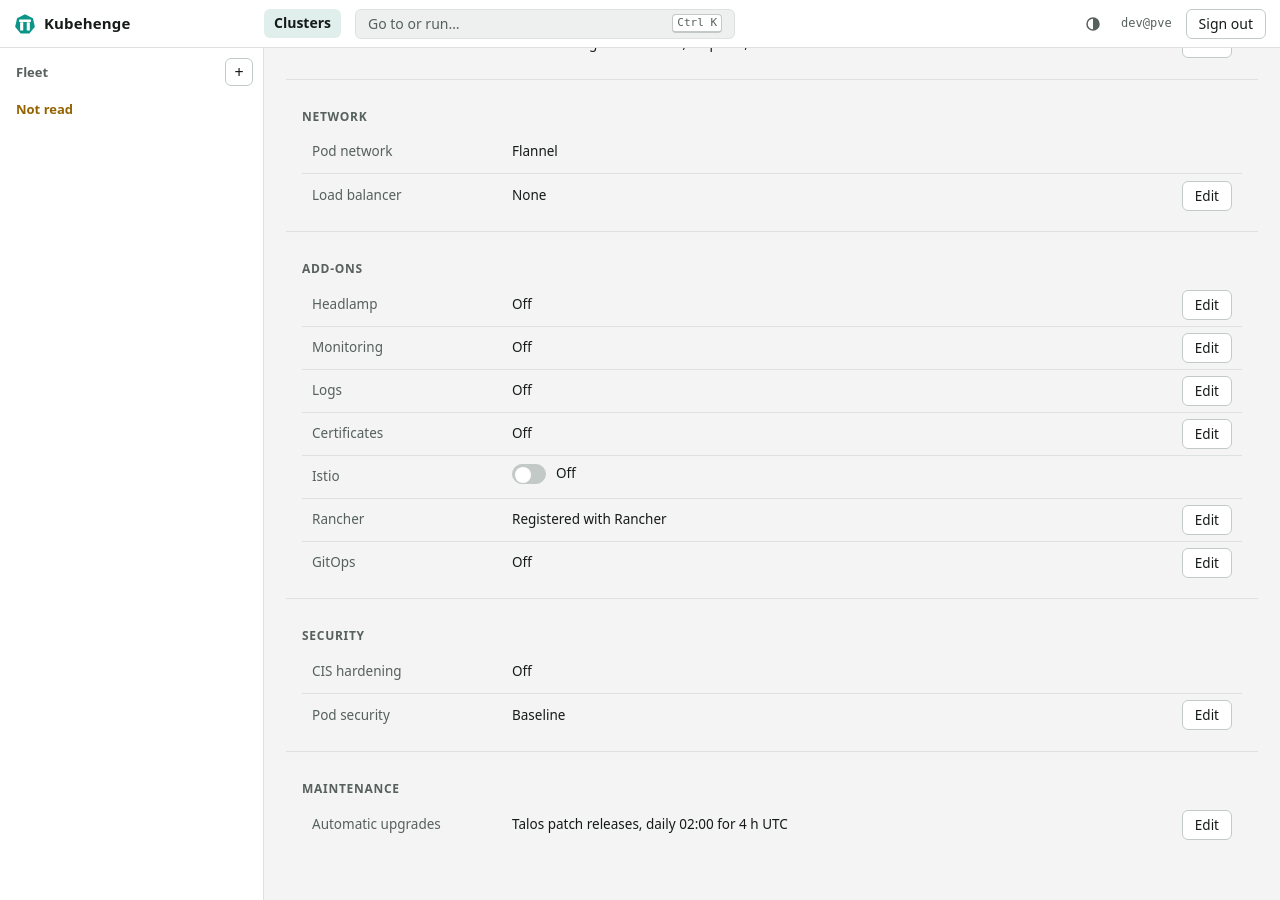
it: cluster upgrades › moves Talos nodes to new Talos patch releases in the window
(page scrolled)
Click the button with aria-label "Edit automatic upgrades": click(1207, 825) [1182,810,1232,840]
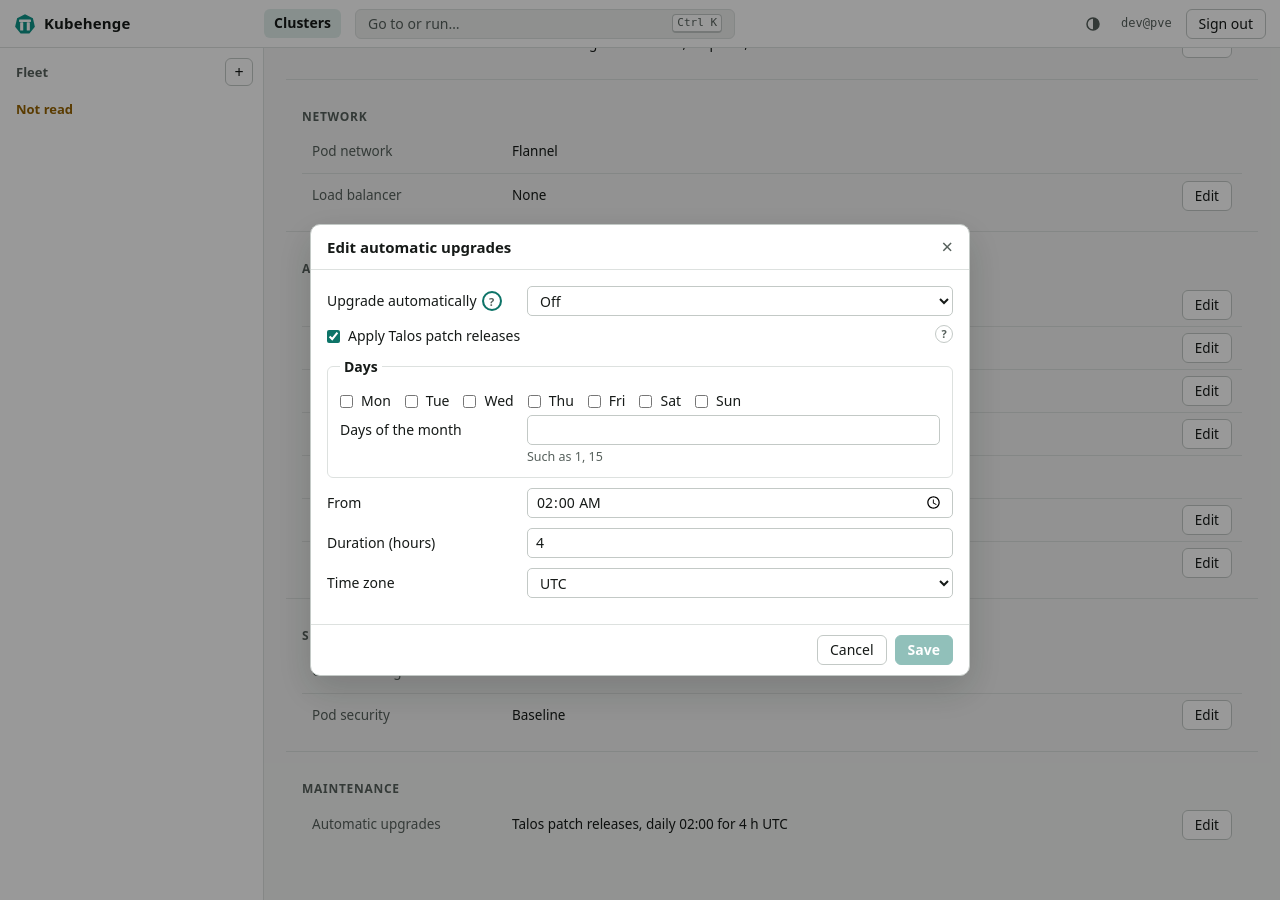
Result: the checkbox labelled "Apply Talos patch releases" is checked at [327,330,340,343]
Result: the time field labelled "From" holds "02:00" at [527,488,953,518]
